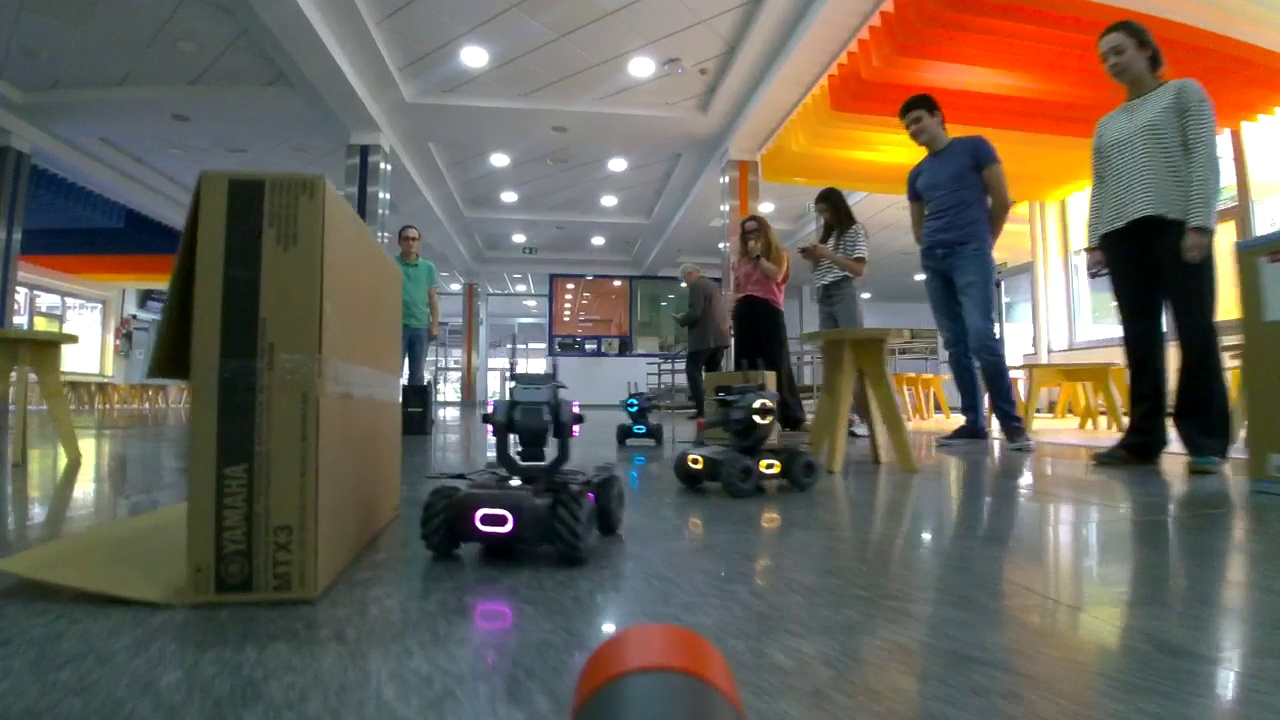robot: (419, 372, 629, 561), (677, 385, 818, 493), (615, 394, 665, 446)
